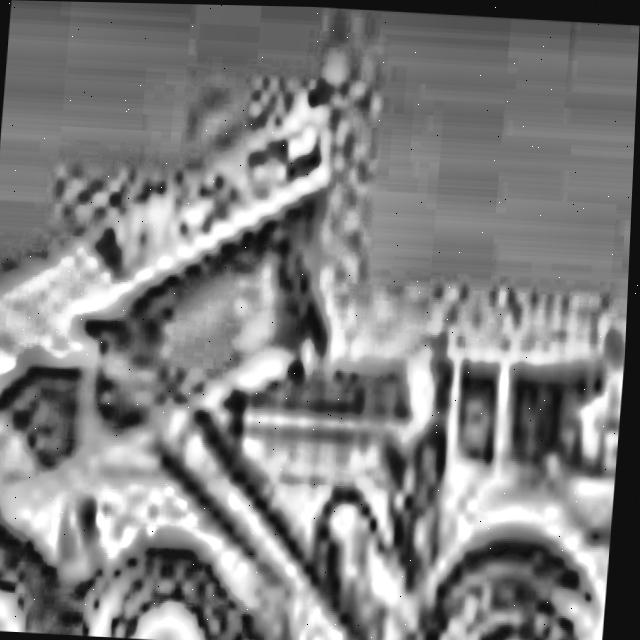dump_truck: (0, 20, 639, 640)
